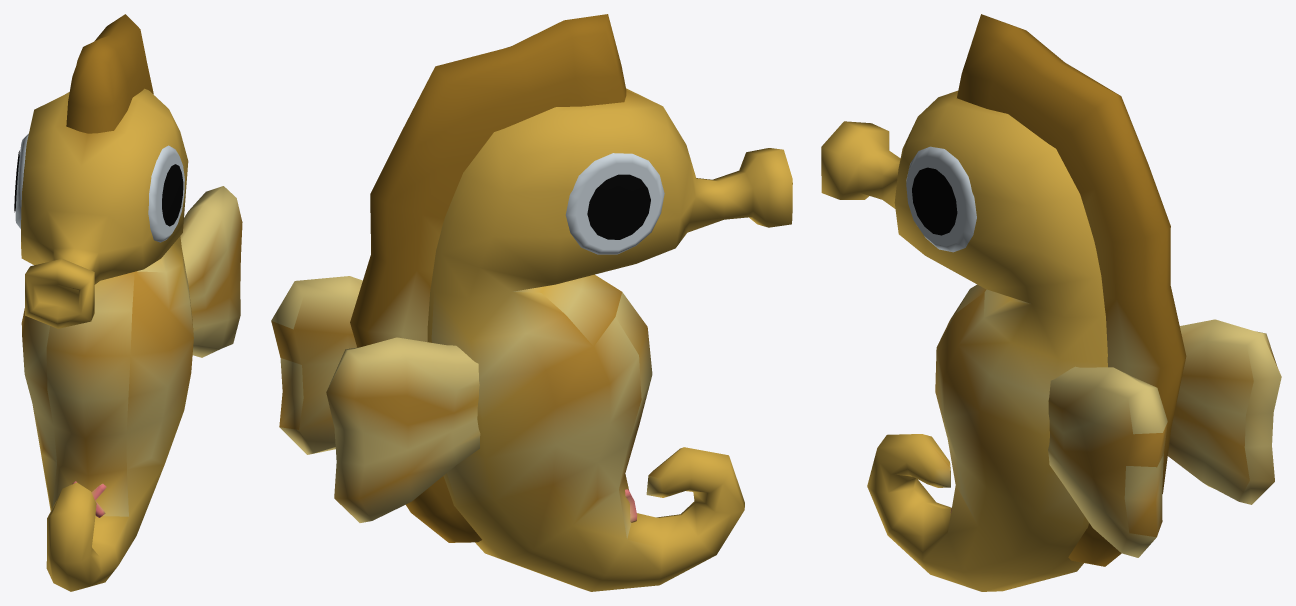
Rendered from Seahorse.glb.
3 renders of one model, left to right at view 1: azimuth 30°, elevation 25°; view 2: azimuth 150°, elevation 25°; view 3: azimuth 270°, elevation 25°, orthographic. The views are drawn at different scales.
Visible parts, largest first — view 1: 146; view 2: 146; view 3: 146.
Boxes of the visible parts, x1,y1,x2,y2 form: 146: [14, 14, 242, 591]; 146: [271, 14, 792, 591]; 146: [821, 14, 1281, 591].
Size of the model in its own units: 0.5607 by 0.8208 by 0.5972.
